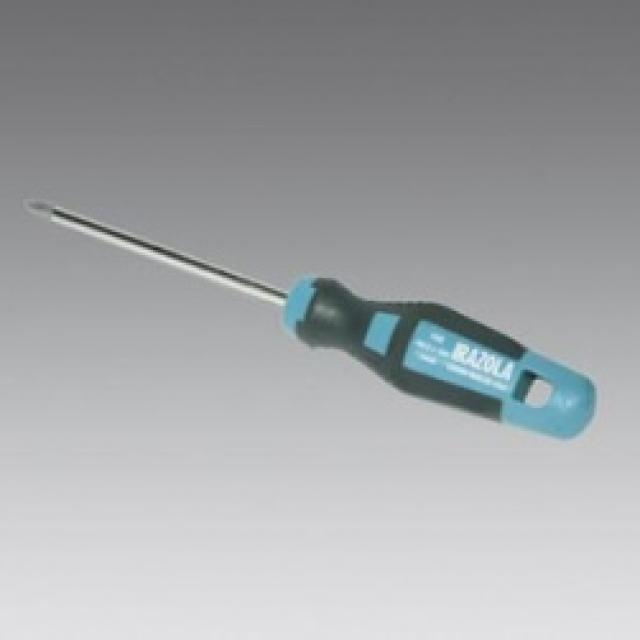screw_driver: (20, 199, 598, 439)
